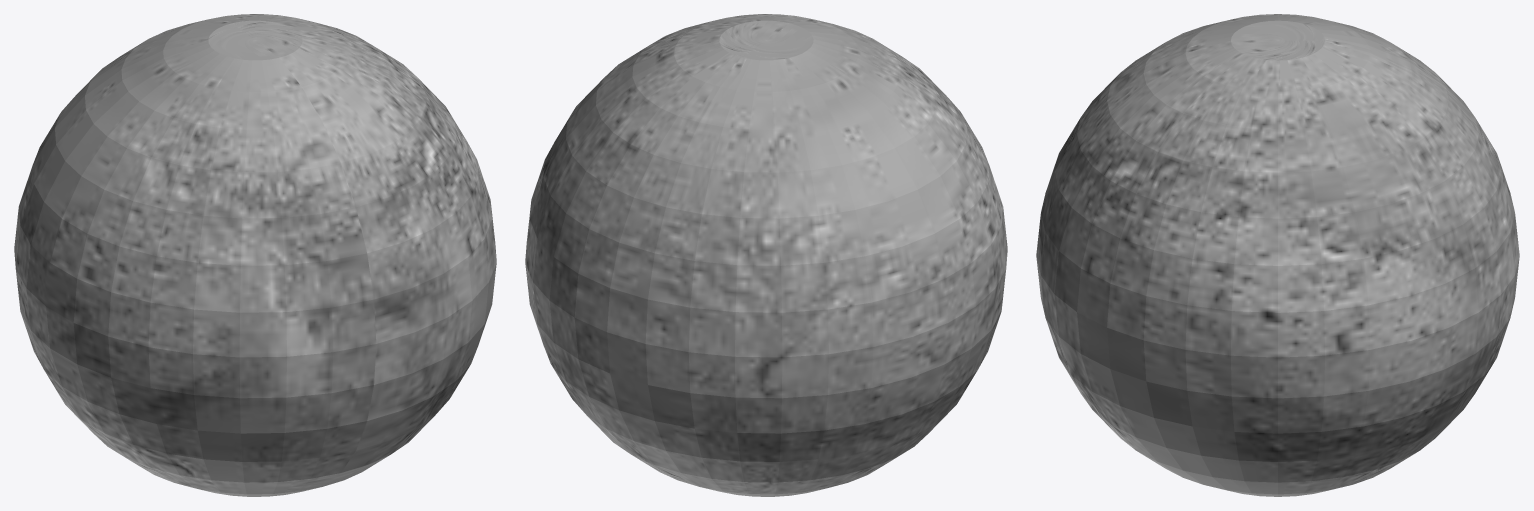
The model's file is pluto.obj.
3 renders of one model, left to right at view 1: azimuth 30°, elevation 25°; view 2: azimuth 150°, elevation 25°; view 3: azimuth 270°, elevation 25°, orthographic.
Parts seen in each view (by area): view 1: Sphere; view 2: Sphere; view 3: Sphere.
Part boxes in pixels (box(x1,y1,x2,y2)): Sphere: box(14, 14, 496, 496); Sphere: box(525, 14, 1007, 496); Sphere: box(1036, 14, 1519, 496).
Bounding box in the file's own units: 2 × 1.96 × 2.
